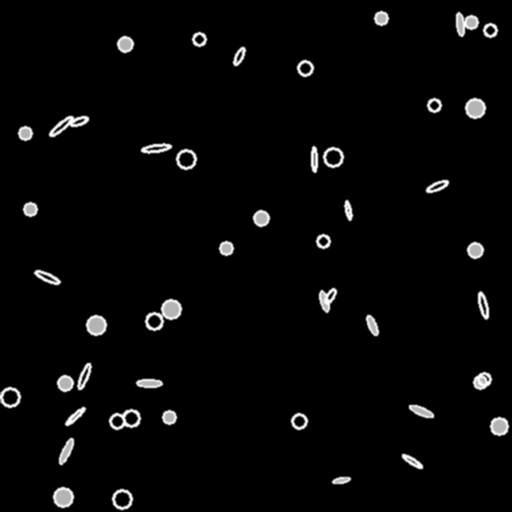pseudomonas: (48, 115, 74, 137), (57, 437, 75, 465), (76, 362, 92, 390), (33, 269, 61, 285), (408, 403, 434, 419), (65, 406, 85, 426), (425, 178, 449, 194), (401, 453, 423, 469), (477, 292, 489, 318), (365, 314, 379, 336), (142, 143, 170, 153), (232, 46, 246, 66), (318, 290, 330, 312), (323, 287, 337, 305), (69, 115, 89, 127), (455, 12, 465, 36), (137, 379, 161, 387), (344, 200, 352, 220), (311, 146, 317, 172), (332, 476, 350, 484)
synechocystis: (87, 316, 105, 334), (466, 99, 484, 117), (162, 300, 180, 318), (324, 148, 342, 166), (1, 388, 19, 406), (177, 150, 195, 168), (54, 488, 72, 506), (113, 490, 131, 508), (146, 313, 162, 329), (491, 418, 507, 434), (123, 410, 139, 426), (110, 414, 124, 428), (468, 243, 482, 257), (254, 211, 268, 225), (118, 37, 132, 51), (58, 376, 72, 390), (298, 61, 312, 75), (292, 414, 306, 428), (163, 411, 175, 423), (193, 33, 205, 45), (220, 242, 232, 254), (24, 203, 36, 215), (375, 12, 387, 24), (19, 127, 31, 139), (428, 99, 440, 111), (465, 16, 477, 28), (474, 376, 486, 388), (478, 373, 490, 385), (317, 235, 329, 247), (484, 24, 496, 36)
